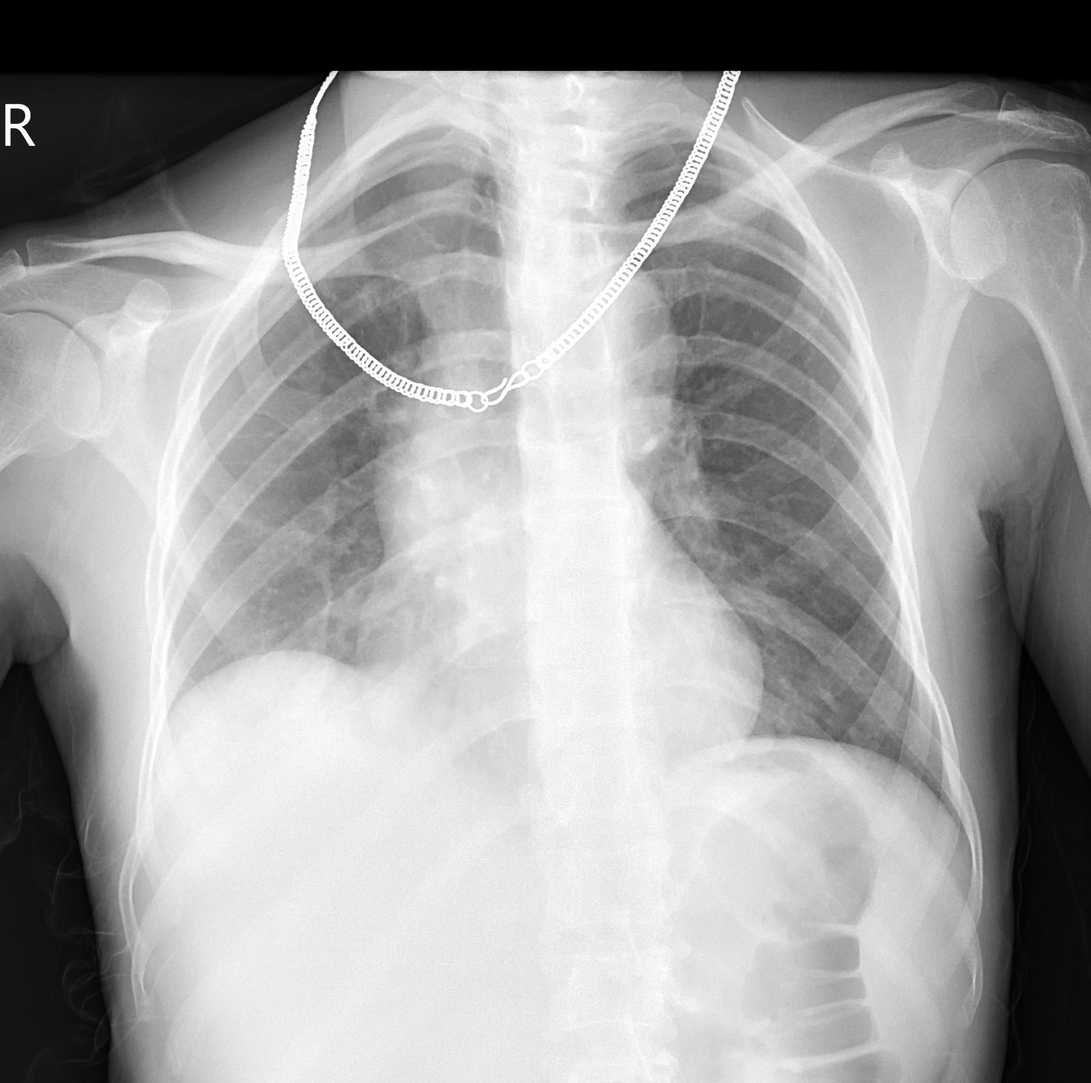Aortic enlargement: (398, 342, 549, 582)
Cardiomegaly: (340, 579, 779, 758)
